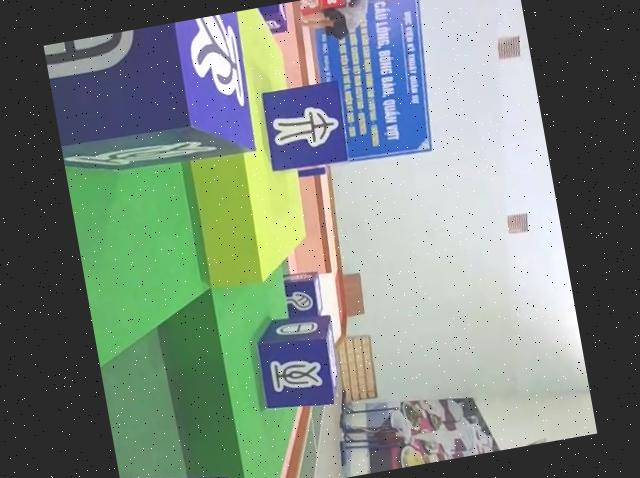R2 Fake Blue: (43, 8, 275, 183), (250, 308, 345, 416), (256, 77, 354, 178), (279, 266, 325, 323), (119, 458, 233, 478), (245, 3, 288, 37)
